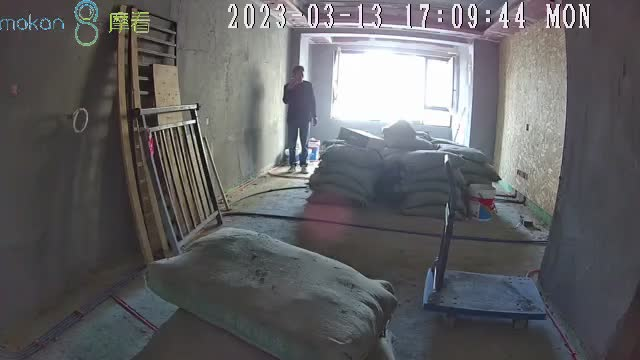people: (283, 66, 317, 173)
window: (334, 47, 458, 125)
